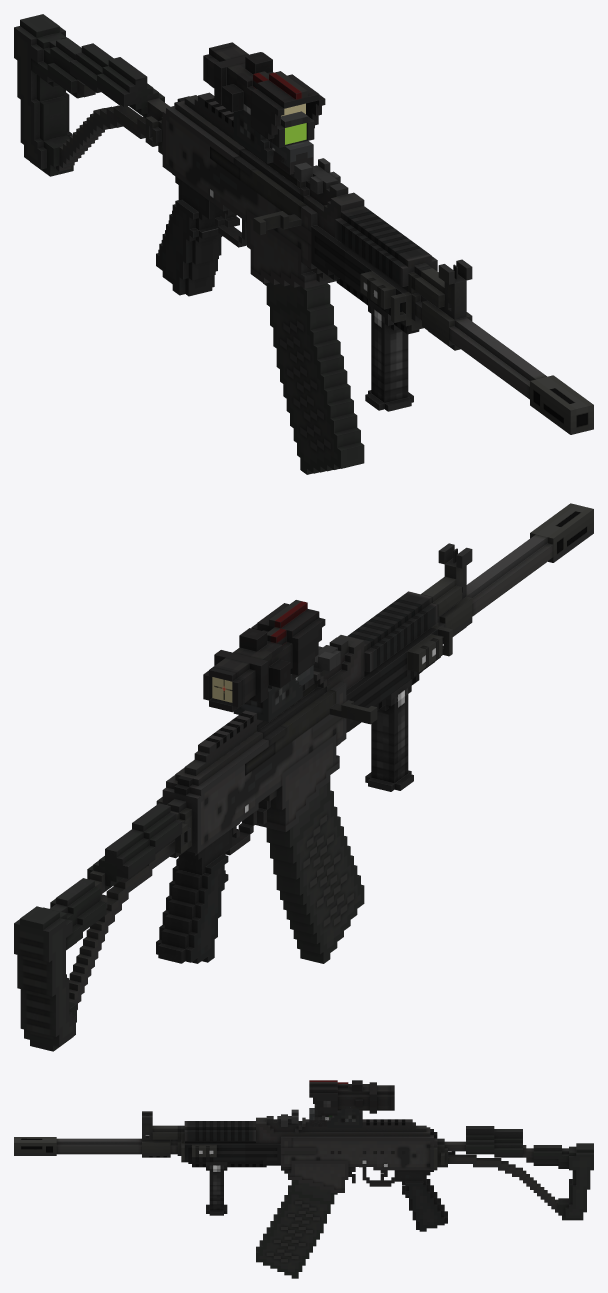
File: RD_VEPR12.glb
The picture shows the model from 3 angles, top to bottom: view 1: azimuth 30°, elevation 25°; view 2: azimuth 150°, elevation 25°; view 3: azimuth 270°, elevation 25°; orthographic projection. The views are drawn at different scales.
Visible parts, largest first — view 1: VEPR12, VEPR12_CLIP, SCOPE_ACOG, GRIP1, SCOPE_EOTECH, SCOPE_AIMPOINT, VEPR12_BOLT; view 2: VEPR12, VEPR12_CLIP, SCOPE_ACOG, GRIP1, SCOPE_EOTECH, VEPR12_BOLT; view 3: VEPR12, VEPR12_CLIP, SCOPE_ACOG, GRIP1, SCOPE_EOTECH.
Boxes of the visible parts, left/top/right/bottom form: VEPR12: left=14, top=14, right=593, bottom=434; VEPR12_CLIP: left=263, top=282, right=364, bottom=474; SCOPE_ACOG: left=203, top=42, right=325, bottom=174; GRIP1: left=365, top=299, right=413, bottom=411; SCOPE_EOTECH: left=233, top=104, right=313, bottom=167; SCOPE_AIMPOINT: left=267, top=111, right=314, bottom=152; VEPR12_BOLT: left=253, top=211, right=301, bottom=235; VEPR12: left=14, top=503, right=593, bottom=1051; VEPR12_CLIP: left=266, top=775, right=364, bottom=963; SCOPE_ACOG: left=203, top=600, right=325, bottom=712; GRIP1: left=365, top=679, right=413, bottom=791; SCOPE_EOTECH: left=233, top=665, right=313, bottom=721; VEPR12_BOLT: left=329, top=700, right=377, bottom=724; VEPR12: left=14, top=1109, right=593, bottom=1231; VEPR12_CLIP: left=256, top=1180, right=337, bottom=1278; SCOPE_ACOG: left=309, top=1080, right=394, bottom=1126; GRIP1: left=206, top=1162, right=227, bottom=1215; SCOPE_EOTECH: left=309, top=1108, right=362, bottom=1128.
Size of the model in its own units: 0.1476 by 0.5905 by 1.6.
Materials: 8 (8 with a texture image).
